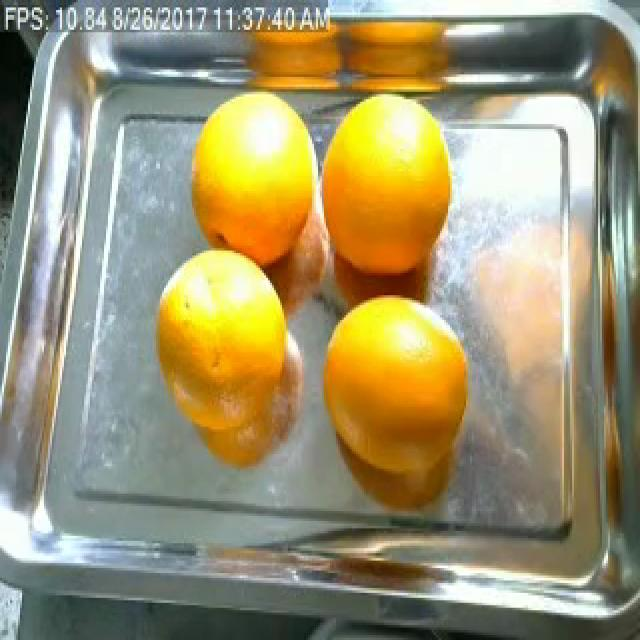Fruit: (142, 238, 304, 437), (316, 87, 466, 280), (178, 82, 326, 268), (326, 20, 466, 92), (232, 22, 352, 94)
